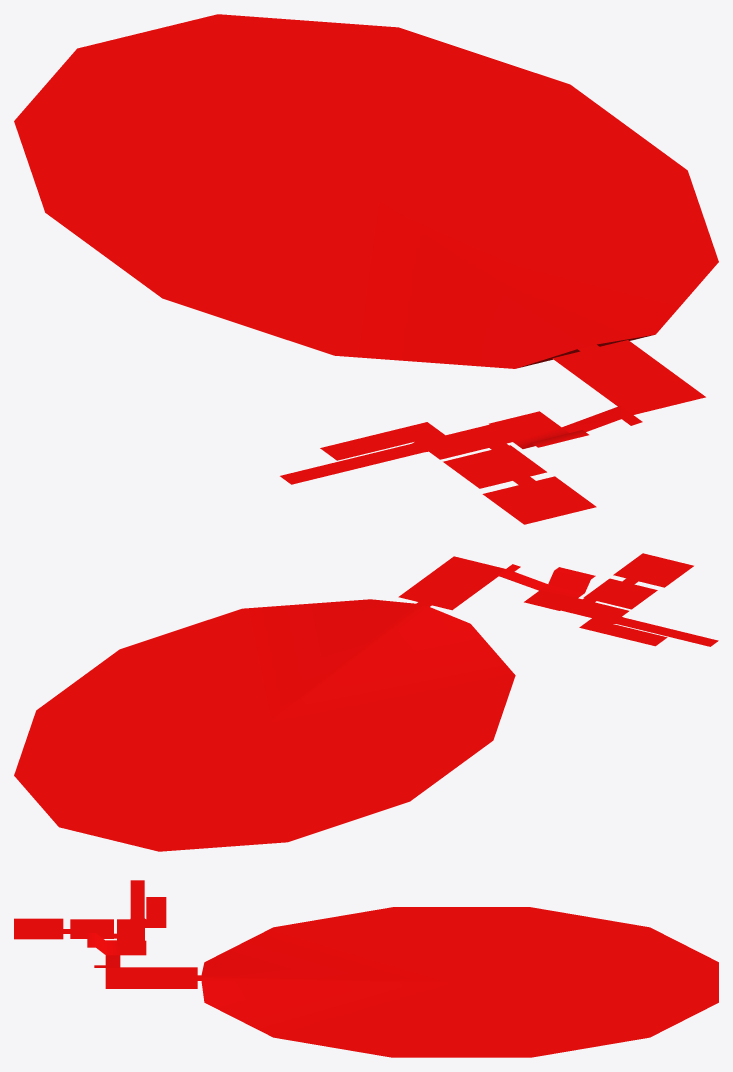
Rendered from navimesh.FBX.
3 renders of one model, top to bottom at view 1: azimuth 30°, elevation 25°; view 2: azimuth 150°, elevation 25°; view 3: azimuth 270°, elevation 25°, orthographic. The views are drawn at different scales.
Visible parts, largest first — view 1: navimesh; view 2: navimesh; view 3: navimesh.
Part boxes in pixels (x1,y1,x2,y2): navimesh: (14, 14, 718, 524); navimesh: (14, 553, 718, 851); navimesh: (14, 880, 718, 1057).
Size of the model in its own units: 6284 by 125 by 10541.
